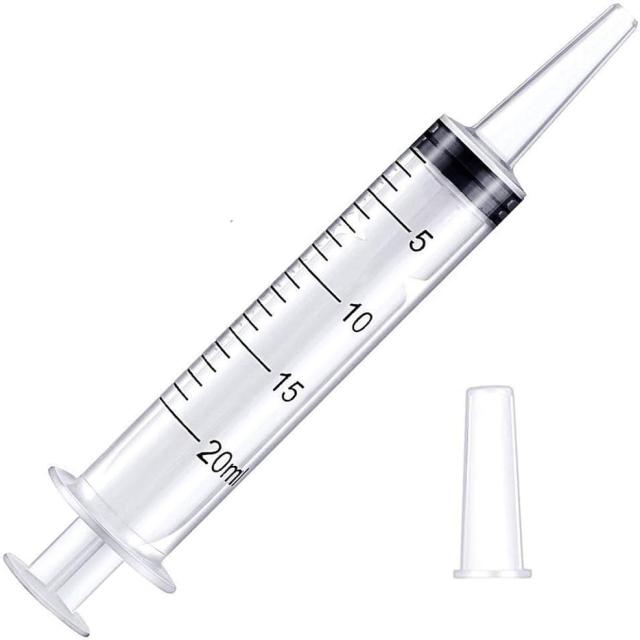syringe: (2, 2, 636, 635)
